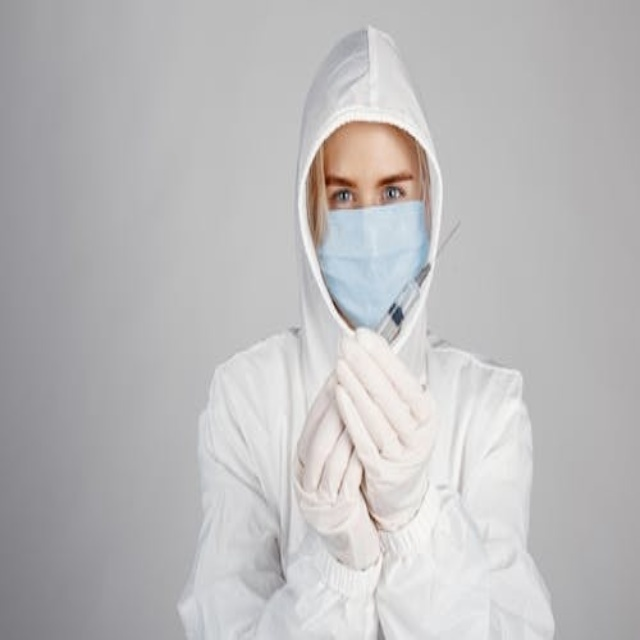Guantes: (333, 321, 438, 530), (293, 368, 383, 573)
Mascara: (317, 197, 429, 327)
Sin_gafas: (325, 156, 419, 211)
